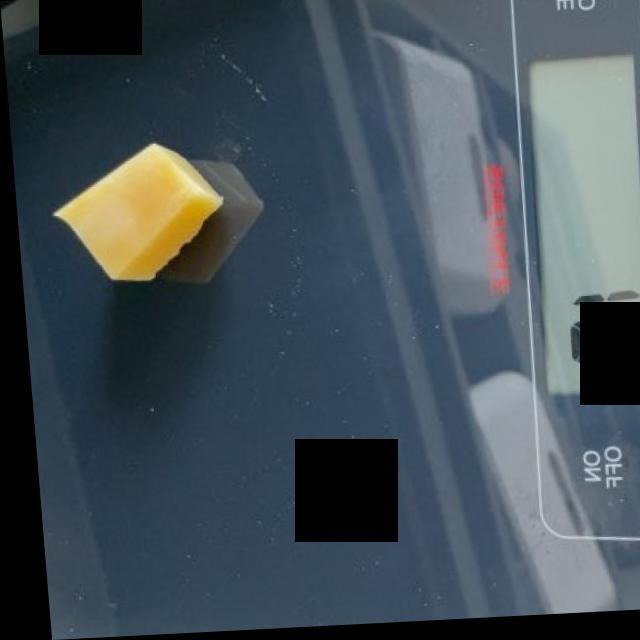cheese: (53, 145, 223, 282)
